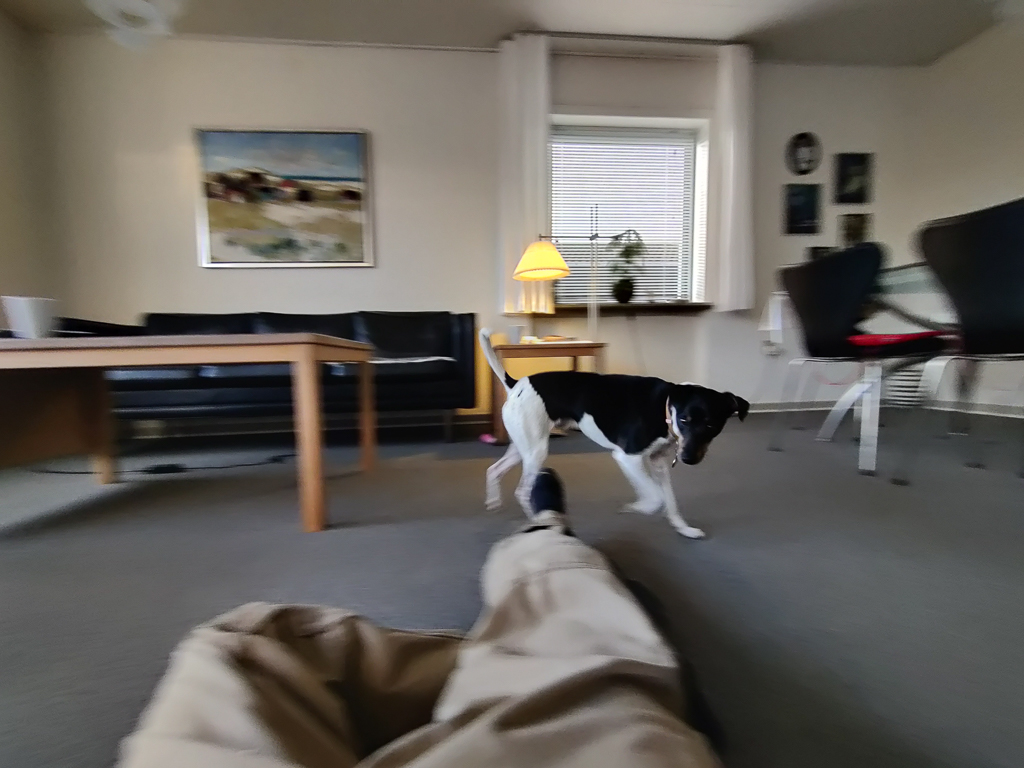Dog: (452, 310, 757, 548)
Humanoid: (97, 463, 754, 768)
